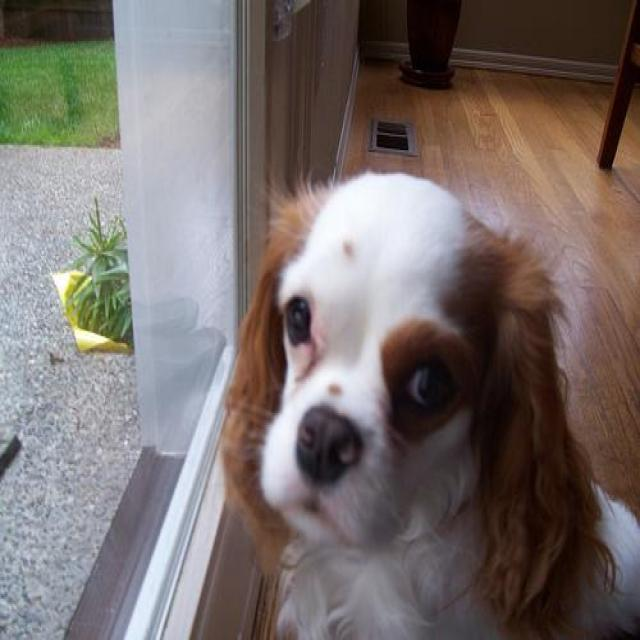blenheim_spaniel: (217, 169, 638, 638)
